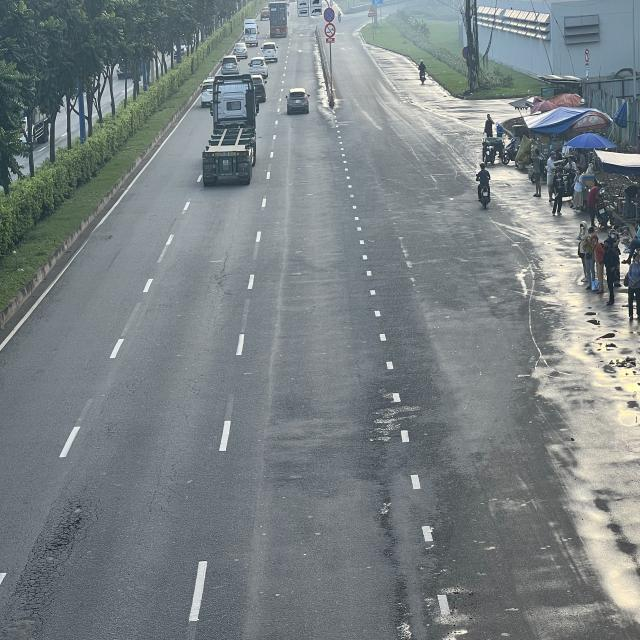car: (285, 88, 309, 115), (262, 41, 280, 62), (220, 55, 237, 75)
container: (202, 74, 260, 186), (270, 0, 290, 37)
van: (243, 24, 259, 46)
